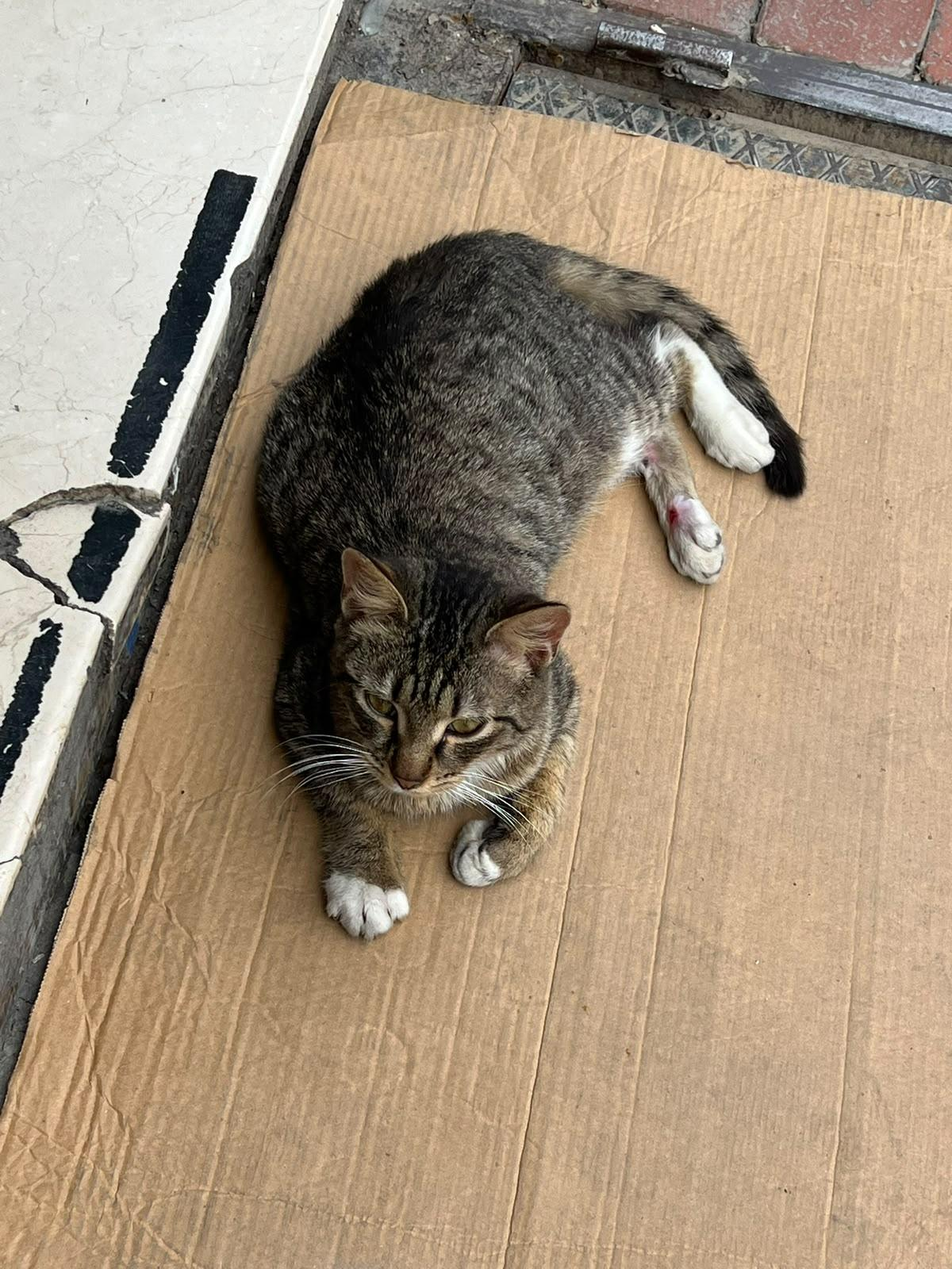macka: (252, 231, 809, 939)
